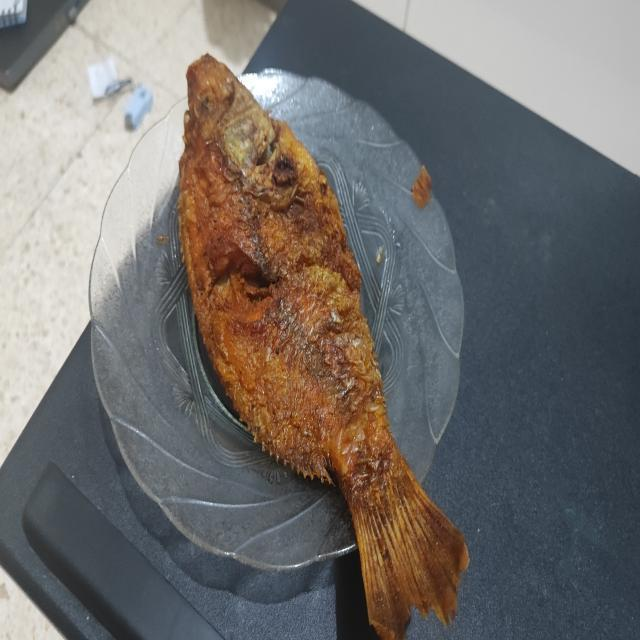ikan_mujair: (178, 55, 469, 640)
